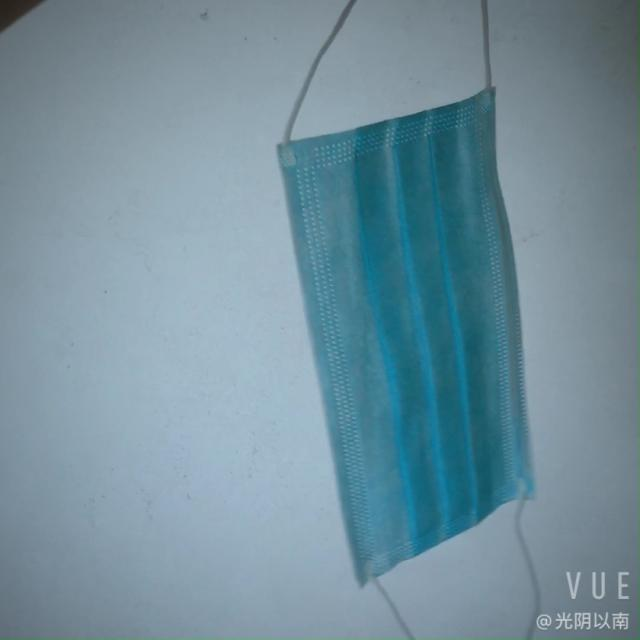non-organic waste: (297, 74, 534, 594)
